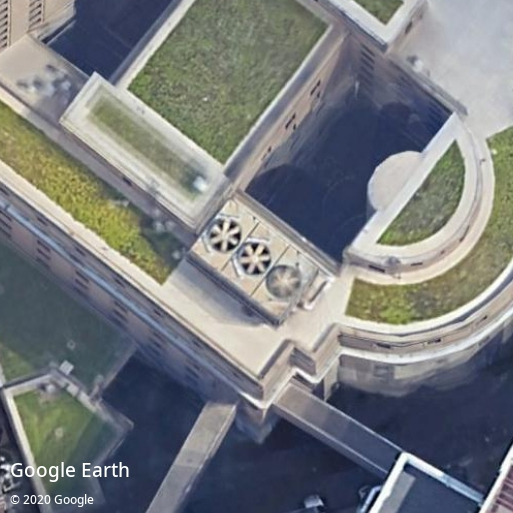Vent: (266, 265, 301, 298), (209, 219, 242, 252), (239, 241, 270, 275)
